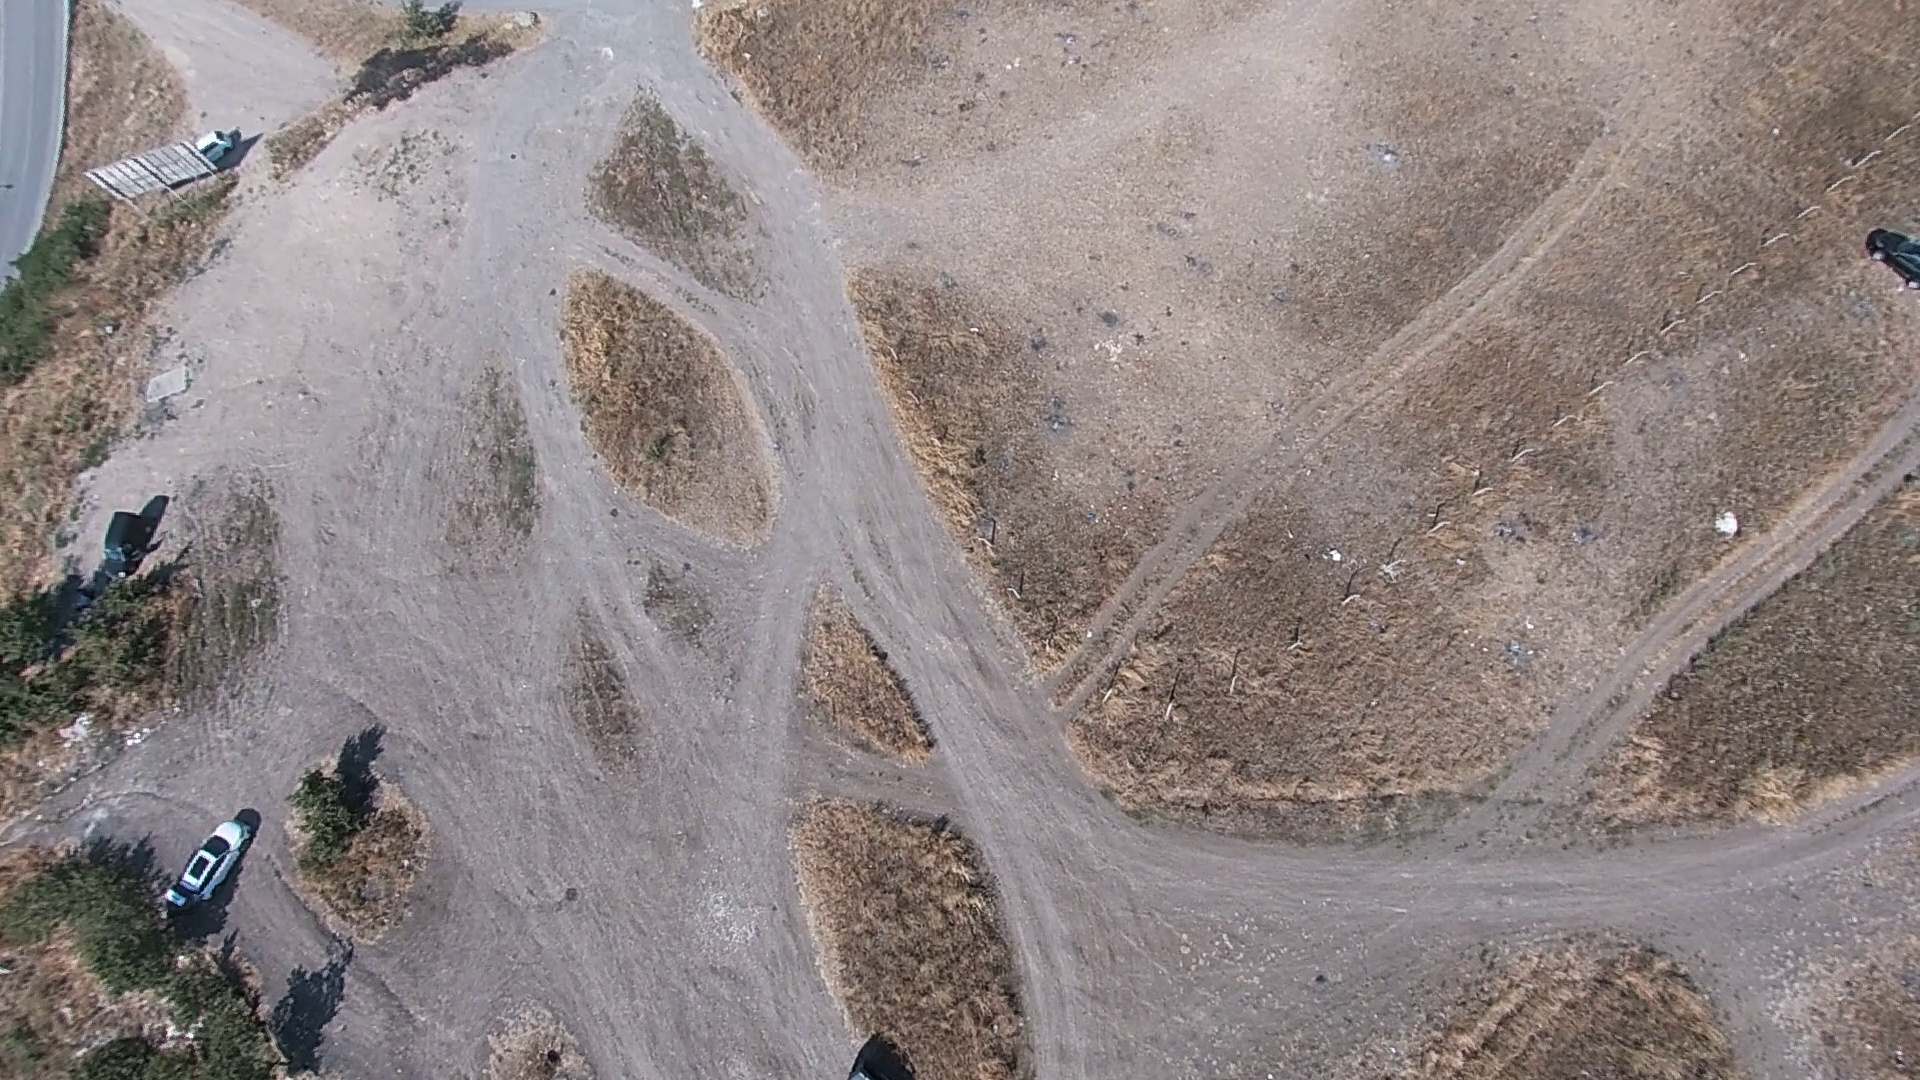arac: (164, 808, 261, 909), (102, 505, 150, 582), (1870, 225, 1920, 282), (194, 123, 237, 162)
